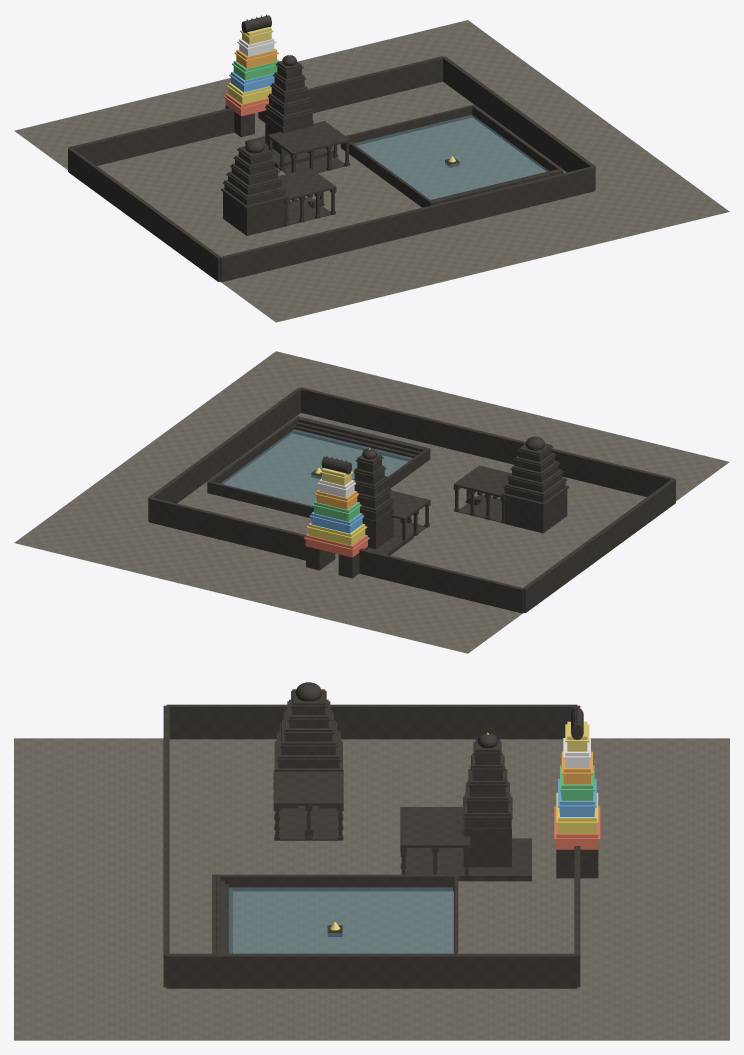
File: pithapuram_puruhutika_kshetra_full.glb
3 views of the same model, one above another, from view 1: azimuth 30°, elevation 25°; view 2: azimuth 150°, elevation 25°; view 3: azimuth 270°, elevation 25° (orthographic). The views are drawn at different scales.
Parts seen in each view (by area): view 1: Ground_Main, Pithapuram_Prakara_S, Pada_Gaya_Tank_Water, Pithapuram_Prakara_W, Pithapuram_Prakara_N_L, Pithapuram_Prakara_E, Pithapuram_Prakara_N_R, Mandapa, Pada_Gaya_Tank_Wall_N, Pada_Gaya_Tank_Wall_E, Pada_Gaya_Tank_Wall_W, Kukkuteswara_Mandapa_Roof (+10 smaller); view 2: Ground_Main, Pithapuram_Prakara_S, Pada_Gaya_Tank_Water, Pithapuram_Prakara_N_L, Pithapuram_Prakara_W, Pithapuram_Prakara_N_R, Pithapuram_Prakara_E, Pada_Gaya_Tank_Wall_N, Mandapa, Pada_Gaya_Tank_Wall_E, Kukkuteswara_Mandapa_Roof, Kukkuteswara_Garbhagriha_Wall_Right (+16 smaller); view 3: Ground_Main, Pada_Gaya_Tank_Water, Pithapuram_Prakara_E, Pithapuram_Prakara_W, Pada_Gaya_Tank_Wall_W, Mandapa, Kukkuteswara_Mandapa_Roof, Pithapuram_Jagati, Pithapuram_Prakara_S, Garbhagriha, Kukkuteswara_Mandapa_Floor, Pithapuram_Raja_Gopuram_Gateway_Jamb_R (+11 smaller).
Boxes of the visible parts, box(x1,y1,x2,y2) form: Ground_Main: box(14, 20, 729, 322); Pithapuram_Prakara_S: box(220, 166, 594, 282); Pada_Gaya_Tank_Water: box(354, 115, 548, 199); Pithapuram_Prakara_W: box(68, 147, 220, 281); Pithapuram_Prakara_N_L: box(69, 107, 234, 165); Pithapuram_Prakara_E: box(442, 56, 595, 189); Pithapuram_Prakara_N_R: box(307, 56, 443, 112); Mandapa: box(267, 121, 350, 173); Pada_Gaya_Tank_Wall_N: box(340, 104, 473, 148); Pada_Gaya_Tank_Wall_E: box(472, 105, 562, 171); Pada_Gaya_Tank_Wall_W: box(342, 141, 431, 207); Kukkuteswara_Mandapa_Roof: box(279, 168, 336, 200); Ground_Main: box(14, 351, 729, 653); Pithapuram_Prakara_S: box(300, 387, 674, 496); Pada_Gaya_Tank_Water: box(220, 429, 412, 505); Pithapuram_Prakara_N_L: box(359, 548, 524, 613); Pithapuram_Prakara_W: box(523, 479, 675, 612); Pithapuram_Prakara_N_R: box(149, 497, 305, 560); Pithapuram_Prakara_E: box(148, 387, 301, 521); Pada_Gaya_Tank_Wall_N: box(207, 481, 313, 518); Mandapa: box(390, 490, 430, 544); Pada_Gaya_Tank_Wall_E: box(208, 417, 298, 483); Kukkuteswara_Mandapa_Roof: box(454, 465, 511, 497); Kukkuteswara_Garbhagriha_Wall_Right: box(504, 496, 544, 532); Ground_Main: box(14, 738, 729, 1040); Pada_Gaya_Tank_Water: box(229, 887, 452, 953); Pithapuram_Prakara_E: box(166, 953, 577, 988); Pithapuram_Prakara_W: box(166, 704, 577, 739); Pada_Gaya_Tank_Wall_W: box(216, 874, 454, 891); Mandapa: box(400, 807, 470, 880); Kukkuteswara_Mandapa_Roof: box(274, 769, 343, 805); Pithapuram_Jagati: box(443, 838, 531, 881); Pithapuram_Prakara_S: box(163, 705, 169, 987); Garbhagriha: box(463, 819, 511, 867); Kukkuteswara_Mandapa_Floor: box(279, 808, 338, 840); Pithapuram_Raja_Gopuram_Gateway_Jamb_R: box(556, 849, 598, 878).
Size of the model in its own units: 68.28 by 15.65 by 68.
20 materials, 2 textured.
